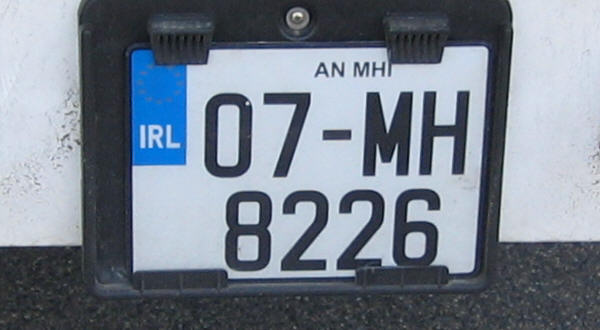license_plate: (126, 45, 491, 277)
